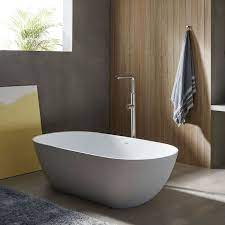bathub: (27, 123, 181, 217)
